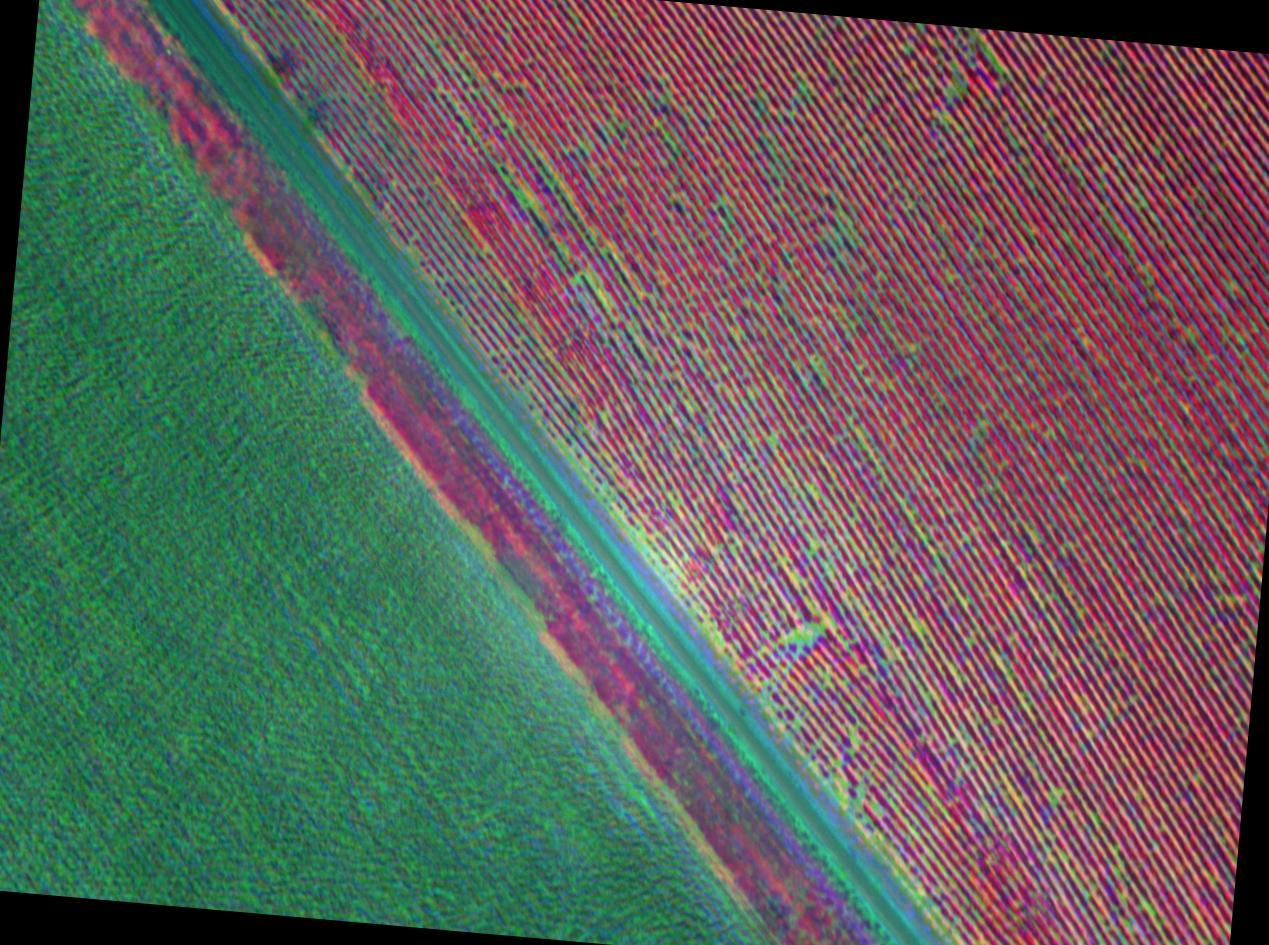dc: (799, 628, 808, 640), (811, 488, 820, 498), (915, 621, 923, 630), (824, 615, 831, 624), (839, 779, 846, 787), (853, 734, 859, 743), (770, 437, 777, 444), (812, 541, 819, 548), (873, 804, 879, 812), (953, 85, 959, 91), (951, 64, 957, 69), (790, 634, 795, 639)
